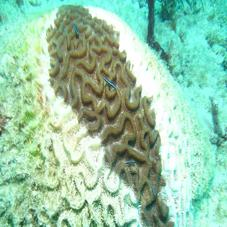bleached_corals: (29, 5, 199, 227)
